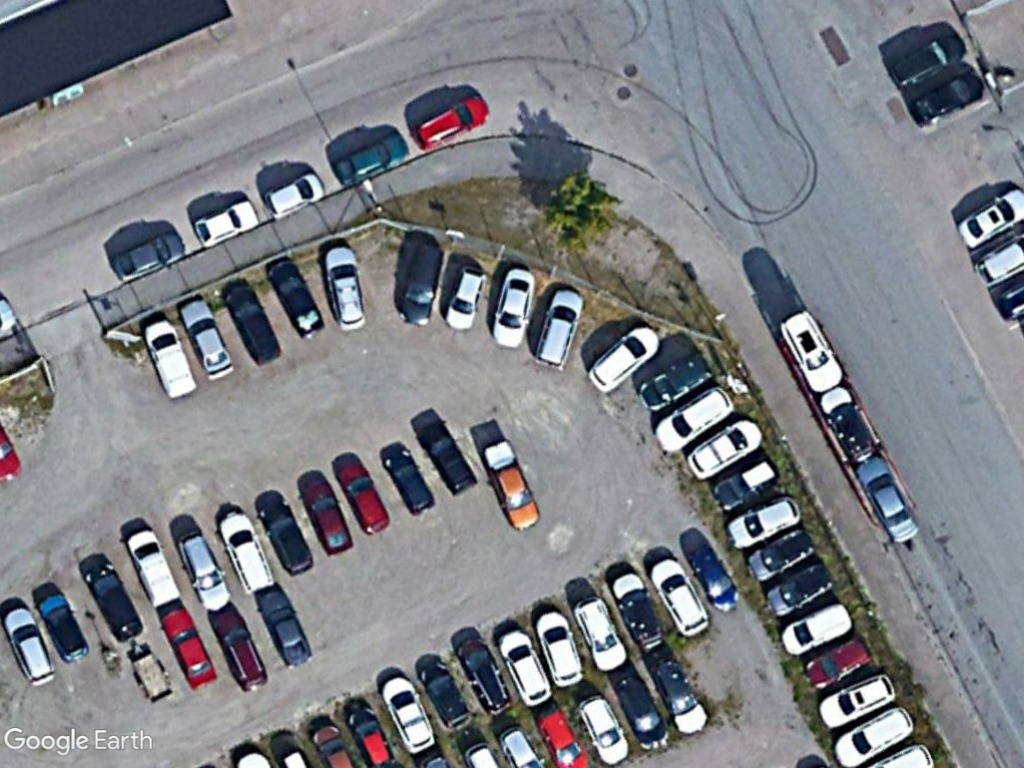car: (778, 303, 843, 397), (654, 384, 737, 457), (857, 453, 920, 546), (407, 89, 493, 156), (830, 702, 917, 768), (647, 554, 712, 640), (215, 506, 276, 597), (649, 649, 710, 740), (587, 322, 662, 396), (883, 29, 971, 92), (812, 669, 900, 732), (155, 607, 219, 693), (682, 416, 764, 482), (224, 277, 281, 370), (297, 473, 357, 561), (81, 557, 143, 642), (211, 604, 270, 693), (906, 67, 989, 130), (256, 581, 316, 668), (267, 256, 327, 342), (529, 285, 589, 371), (378, 675, 440, 758), (172, 527, 231, 614), (494, 625, 555, 708), (637, 350, 716, 414), (725, 491, 804, 555), (568, 594, 629, 676), (951, 184, 1024, 252), (417, 417, 479, 497), (178, 295, 237, 379), (817, 383, 878, 464), (611, 668, 670, 751), (0, 604, 60, 684), (778, 601, 856, 661), (261, 495, 316, 580), (798, 631, 872, 694), (33, 587, 92, 666), (394, 241, 448, 326), (335, 456, 392, 536), (487, 266, 540, 351), (334, 132, 411, 190), (763, 559, 837, 619), (743, 523, 814, 585), (535, 606, 587, 690), (113, 227, 187, 286), (380, 442, 437, 518), (685, 541, 743, 615), (712, 454, 783, 514), (323, 241, 368, 333), (190, 196, 262, 253), (578, 694, 633, 768), (261, 168, 327, 221), (443, 262, 489, 334)
other: (480, 436, 542, 534)
van: (139, 318, 199, 401), (126, 528, 182, 612)
